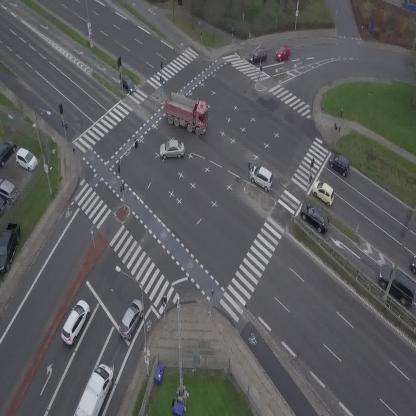car: (57, 297, 95, 347), (295, 198, 336, 237), (115, 296, 148, 341), (308, 177, 340, 208), (246, 162, 278, 192), (326, 150, 354, 177), (159, 140, 185, 158), (116, 74, 138, 95), (247, 47, 269, 64), (273, 45, 292, 62)
lorry: (157, 87, 216, 138), (73, 361, 118, 416)
